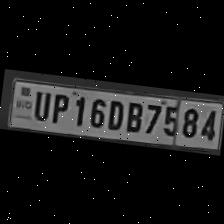1: (68, 92, 88, 128)
4: (196, 104, 219, 140)
5: (158, 101, 180, 137)
6: (84, 94, 107, 130)
7: (140, 99, 162, 135)
8: (177, 104, 200, 139)
B: (120, 98, 144, 134)
D: (102, 95, 125, 131)
P: (46, 90, 71, 125)
U: (28, 86, 51, 122)
